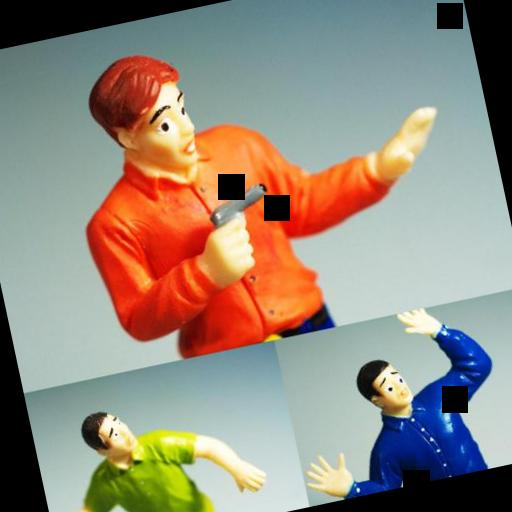Handgun: (202, 178, 273, 234)
